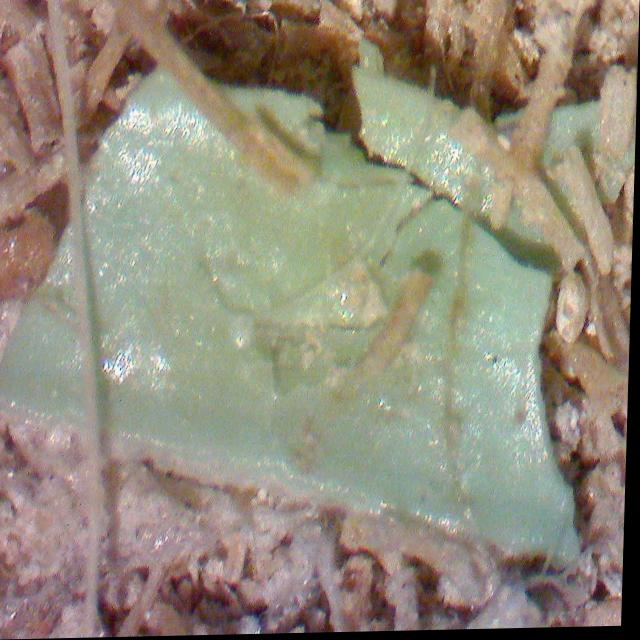microplastic: (0, 60, 586, 565), (354, 69, 569, 271), (546, 100, 637, 211)
